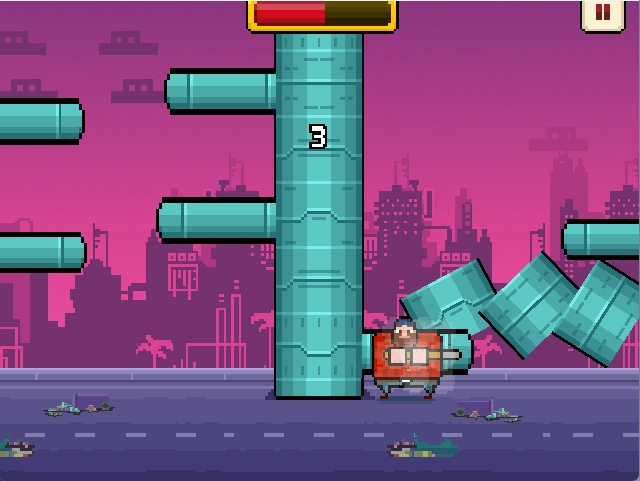left_obs: (159, 60, 277, 120), (154, 192, 278, 245)
timberman: (366, 306, 462, 405)
